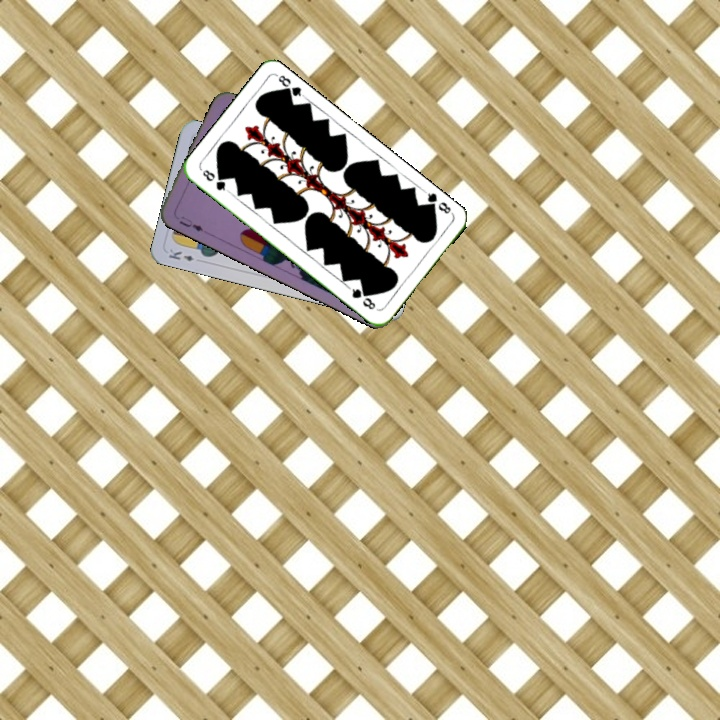EK: (165, 245, 196, 264)
EU: (175, 212, 206, 234)
G8: (198, 165, 232, 195), (421, 187, 455, 217)
